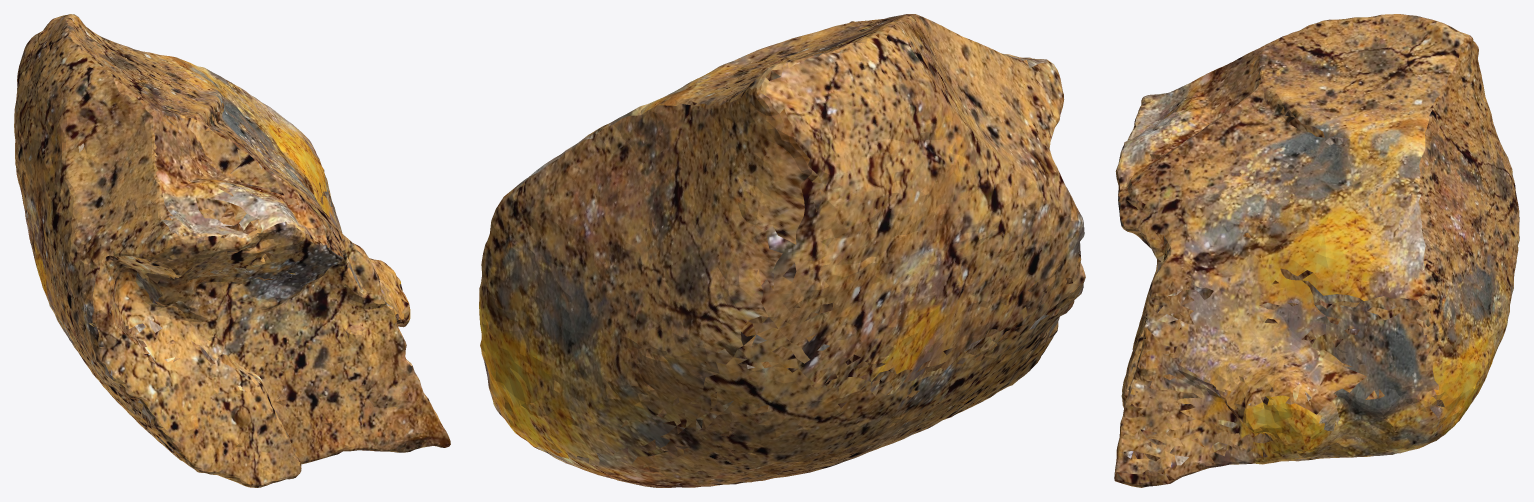
Rendered from GAL_Rock-02.glb.
The picture shows the model from 3 angles, left to right: view 1: azimuth 30°, elevation 25°; view 2: azimuth 150°, elevation 25°; view 3: azimuth 270°, elevation 25°; orthographic projection. The views are drawn at different scales.
Parts seen in each view (by area): view 1: tmp04gl6ewv.ply; view 2: tmp04gl6ewv.ply; view 3: tmp04gl6ewv.ply.
Boxes of the visible parts, x1,y1,x2,y2 form: tmp04gl6ewv.ply: (14,14,450,487); tmp04gl6ewv.ply: (479,14,1085,487); tmp04gl6ewv.ply: (1114,14,1519,487).
Size of the model in its own units: 1.93 by 1.93 by 1.96.
1 material, 1 textured.
